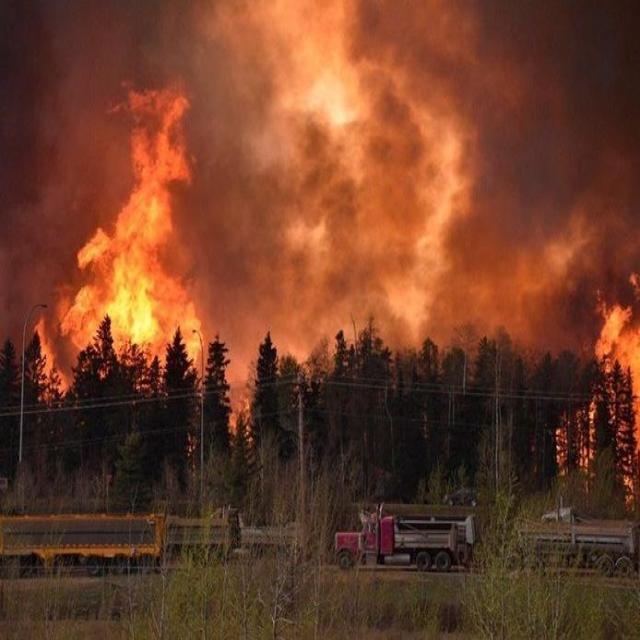Fire: (59, 86, 194, 379), (566, 278, 638, 449)
Smoke: (182, 19, 532, 390)
